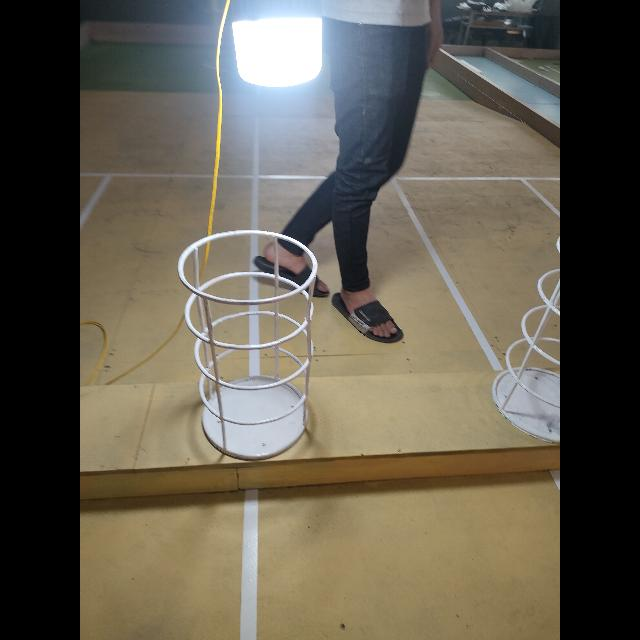S: (176, 228, 324, 460), (481, 229, 559, 460)
